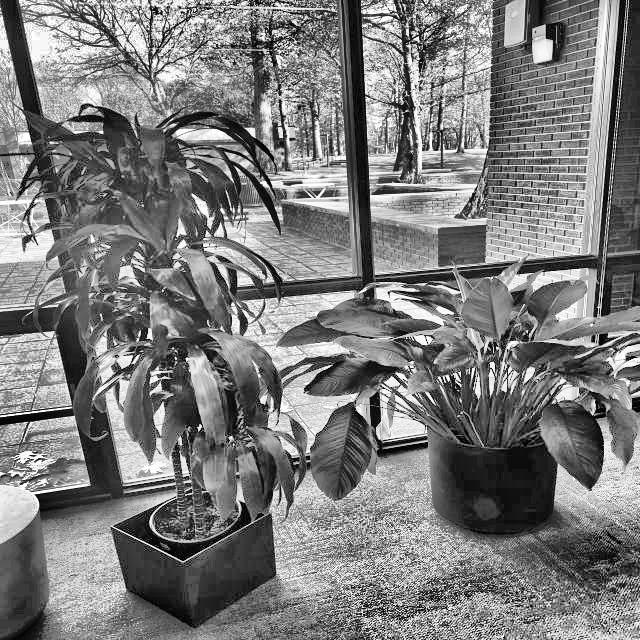plants: (7, 82, 307, 518), (333, 262, 640, 460)
